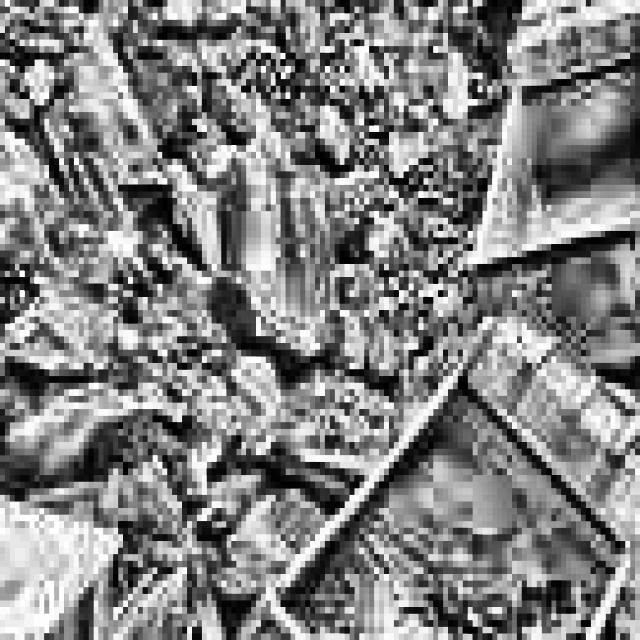dump_truck: (236, 270, 639, 640), (487, 0, 639, 369)
